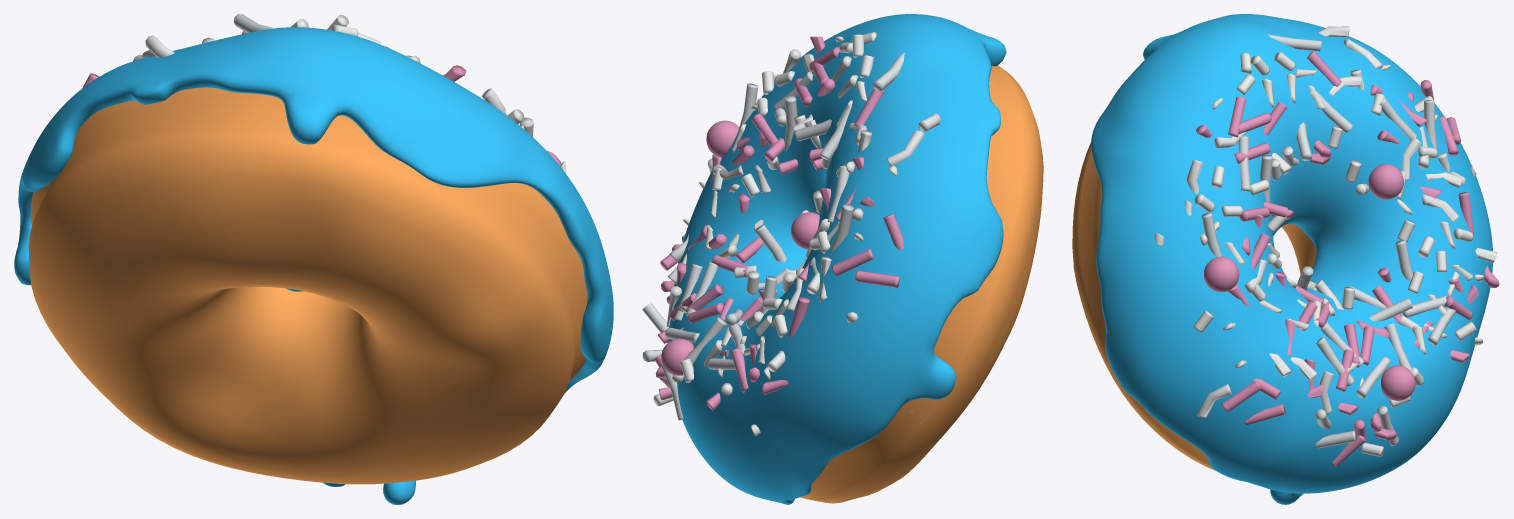
File: donut-winter-CSsHGrz2.glb
3 views of the same model, side by side, from view 1: azimuth 30°, elevation 25°; view 2: azimuth 150°, elevation 25°; view 3: azimuth 270°, elevation 25° (orthographic). The views are drawn at different scales.
Visible parts, largest first — view 1: donut, icing; view 2: icing, donut, Sphere.001, Sphere, Sphere.002; view 3: icing, donut, Sphere.001, Sphere.002, Sphere.
Boxes of the visible parts, x1,y1,x2,y2 form: donut: [28, 87, 587, 484]; icing: [14, 14, 613, 504]; icing: [642, 14, 1006, 504]; donut: [800, 65, 1043, 503]; Sphere.001: [706, 120, 739, 157]; Sphere: [661, 338, 693, 375]; Sphere.002: [791, 212, 819, 249]; icing: [1091, 14, 1499, 504]; donut: [1072, 142, 1316, 470]; Sphere.001: [1203, 256, 1239, 292]; Sphere.002: [1368, 164, 1403, 199]; Sphere: [1381, 365, 1415, 400].
Bounding box in the file's own units: 0.9109 × 0.9877 × 0.9042.
Materials: 10 (1 with a texture image).
